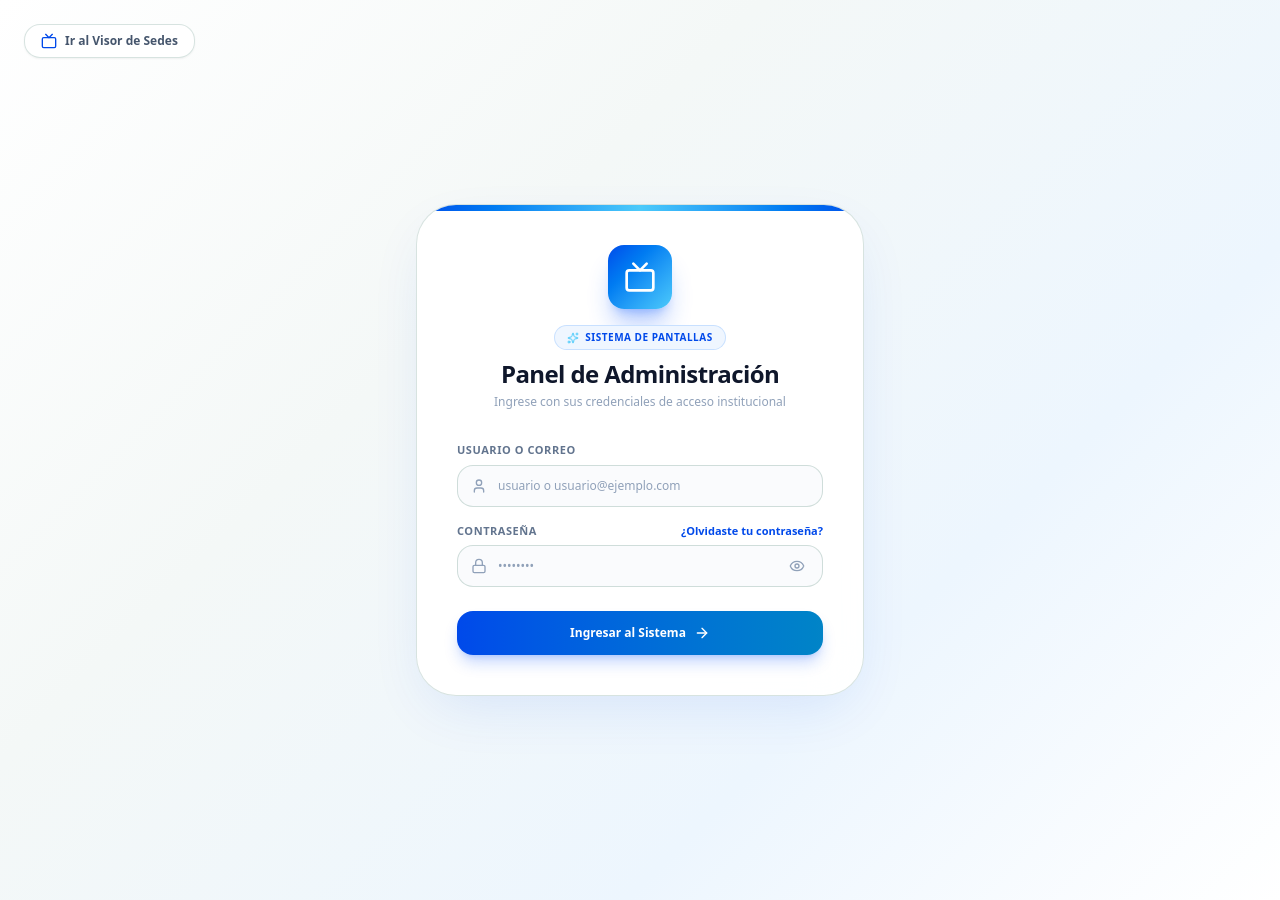
AdminLogin Component and Password Recovery › completes reset password flow and shows success notification on login
The image size is (1280, 900).
Click the button "¿Olvidaste tu contraseña?" at (752, 531), box [681, 522, 823, 539]
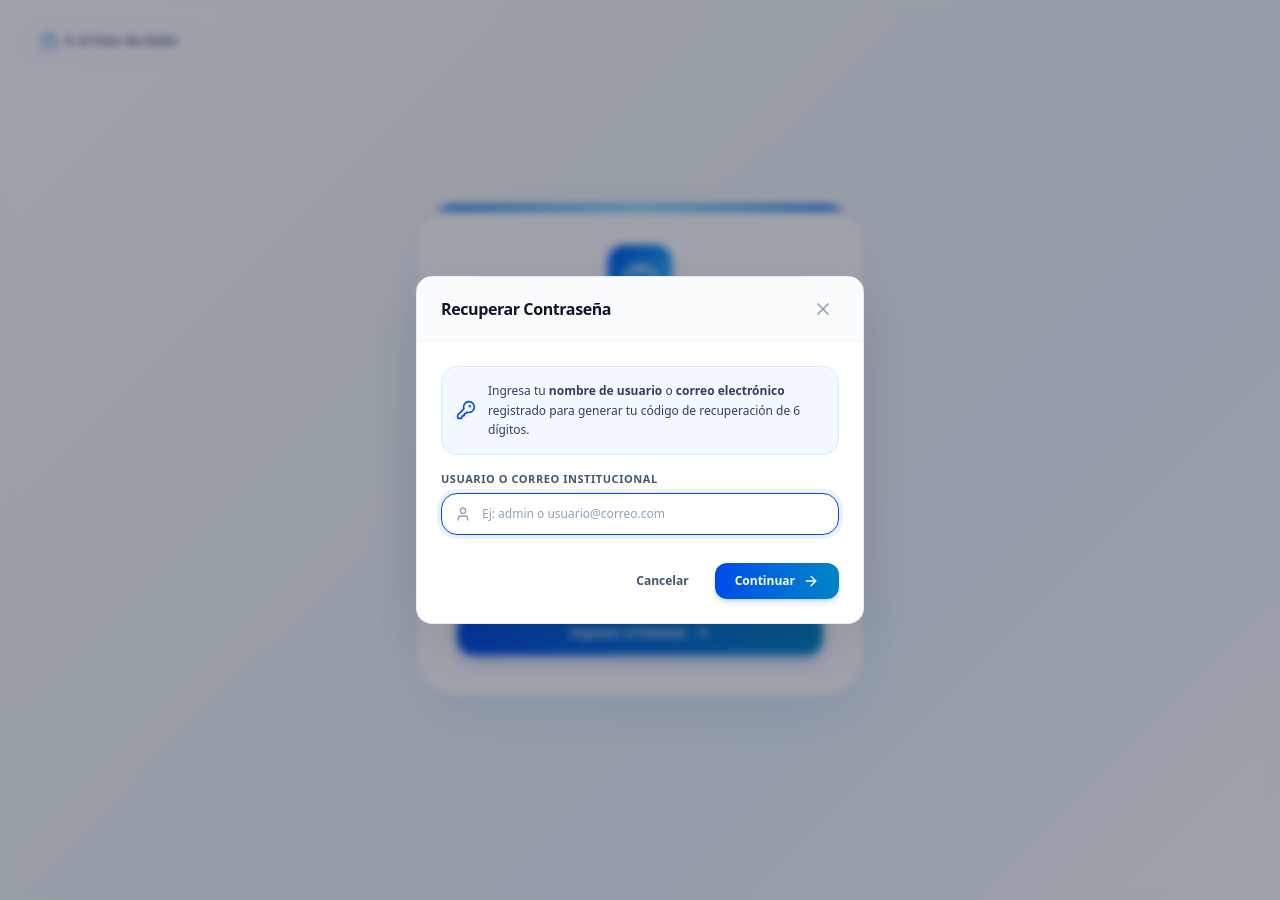
Type "admin" into the field with placeholder "Ej: admin o usuario@correo.com" at (640, 514), box [441, 493, 839, 535]
Click the button "Continuar" at (777, 581), box [715, 563, 839, 599]
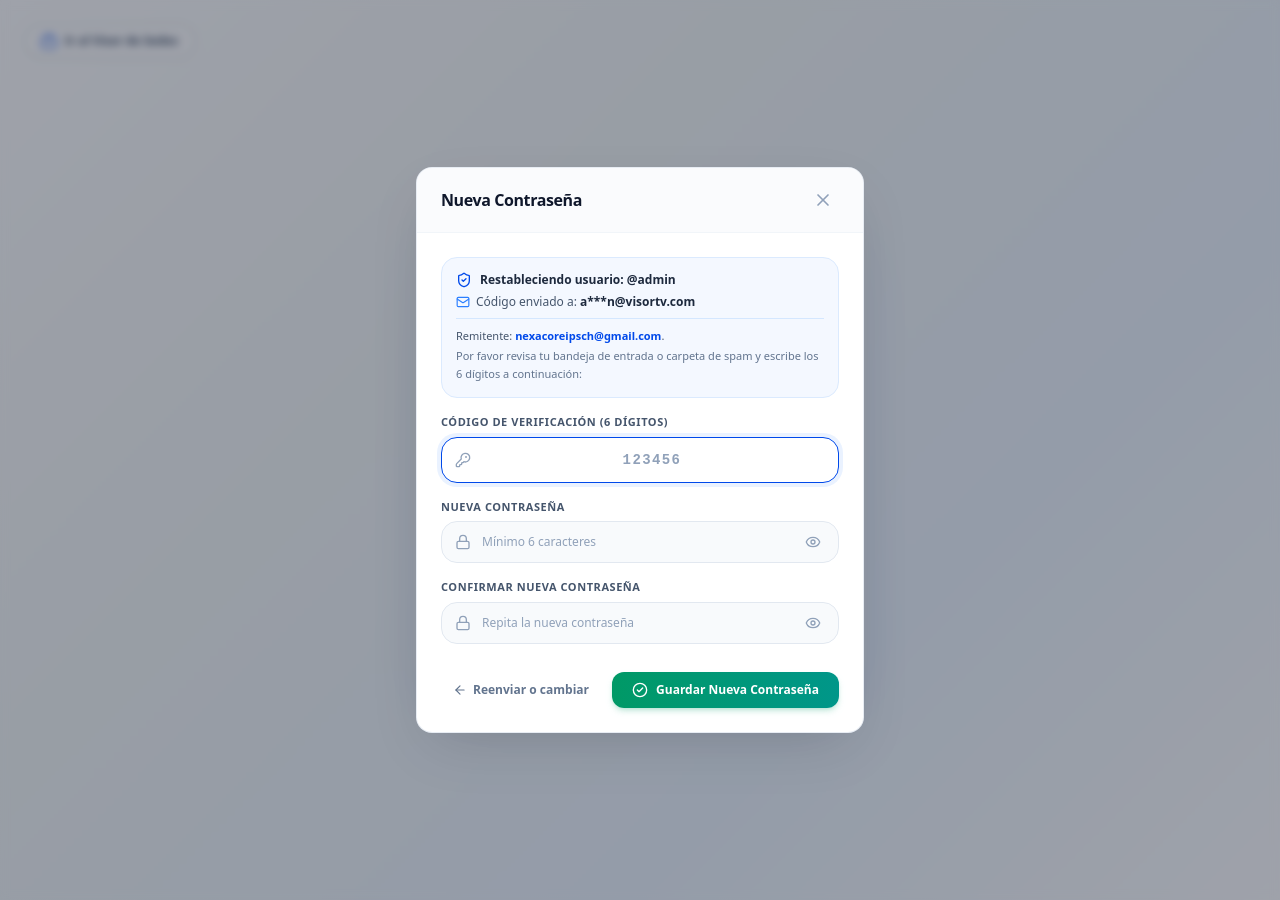
Expected: the field with placeholder "123456" is shown
Type "654321" into the field with placeholder "123456" at (640, 460), box [441, 437, 839, 483]
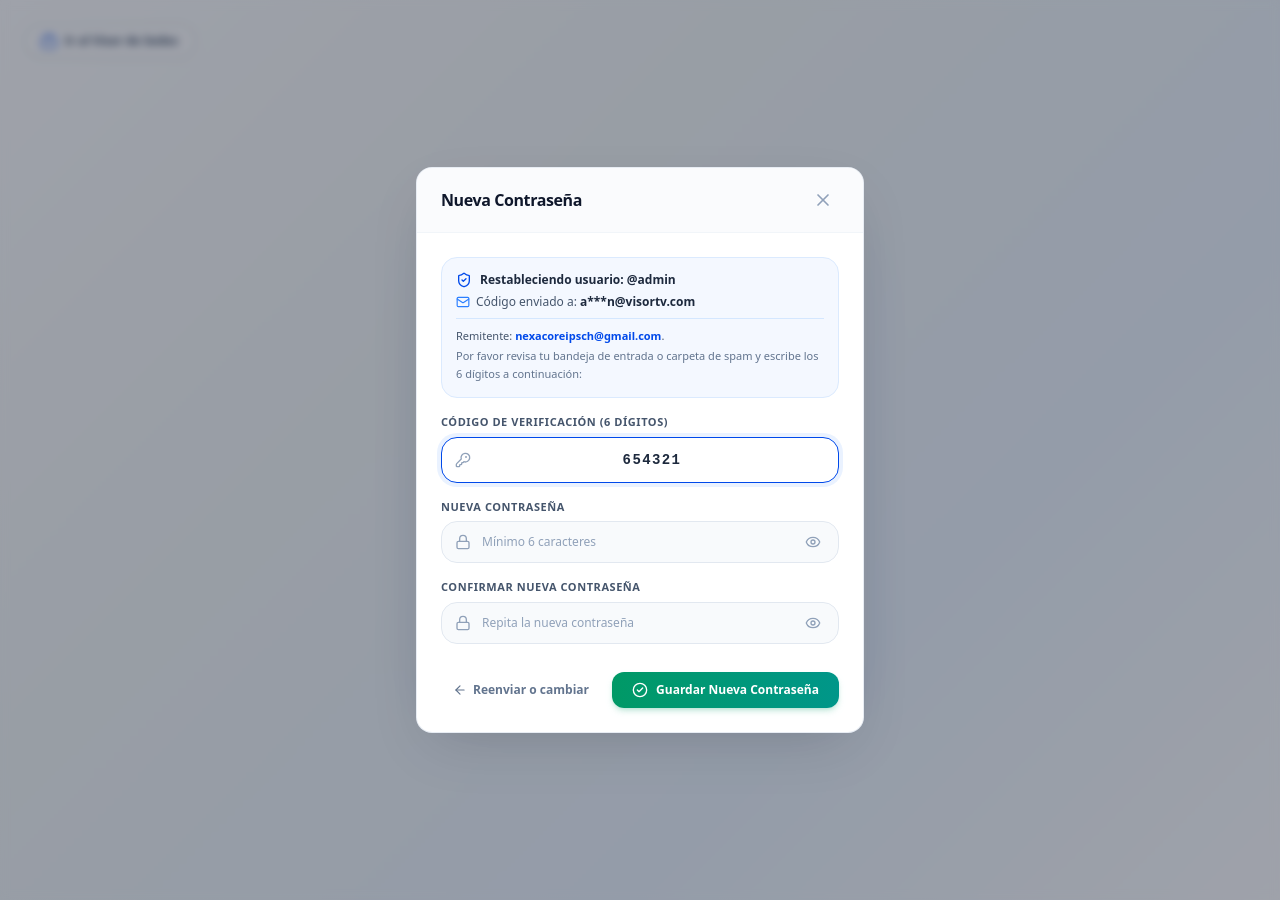
Type "newpassword123" into the password field with placeholder "Mínimo 6 caracteres" at (640, 542), box [441, 521, 839, 563]
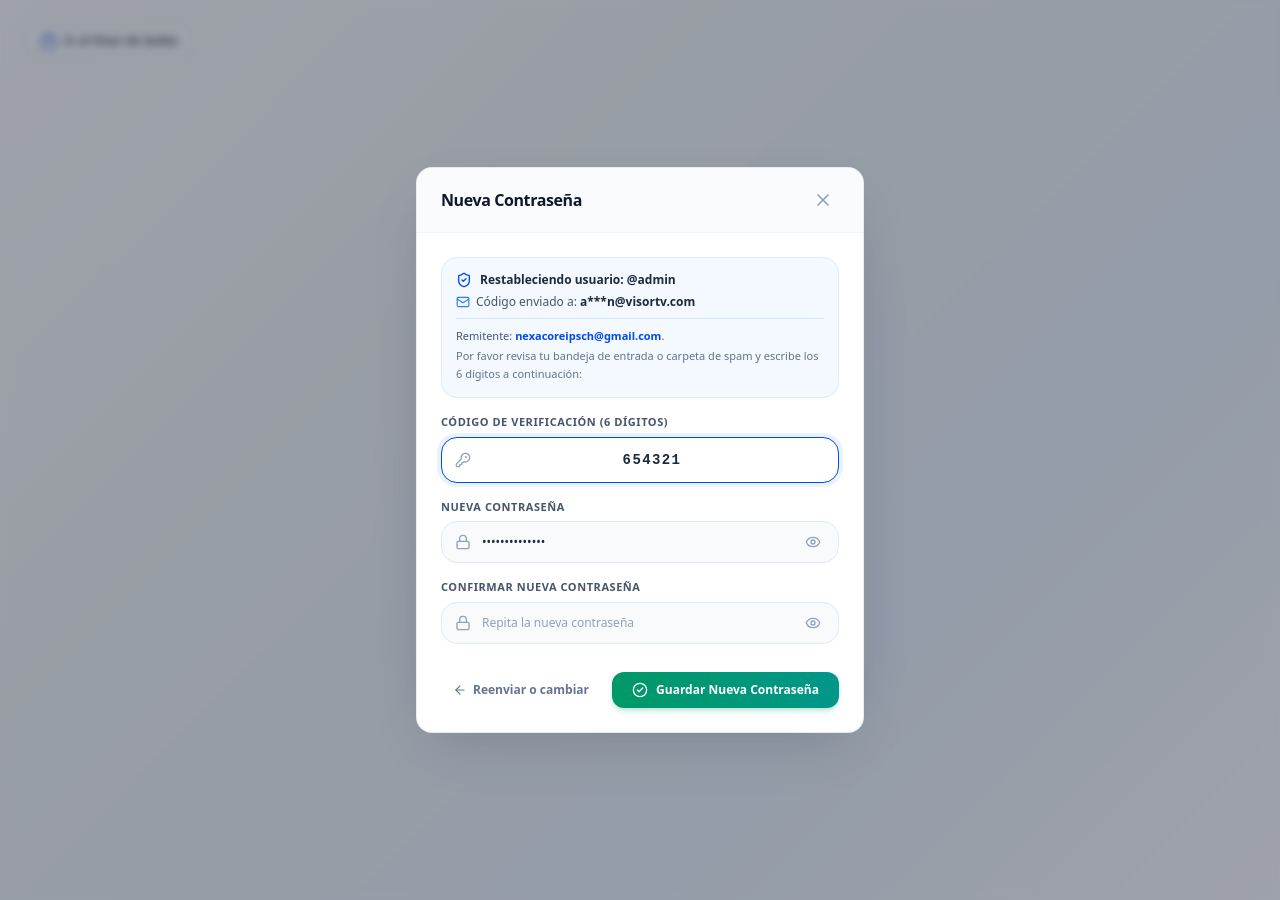
Type "newpassword123" into the password field with placeholder "Repita la nueva contraseña" at (640, 623), box [441, 602, 839, 644]
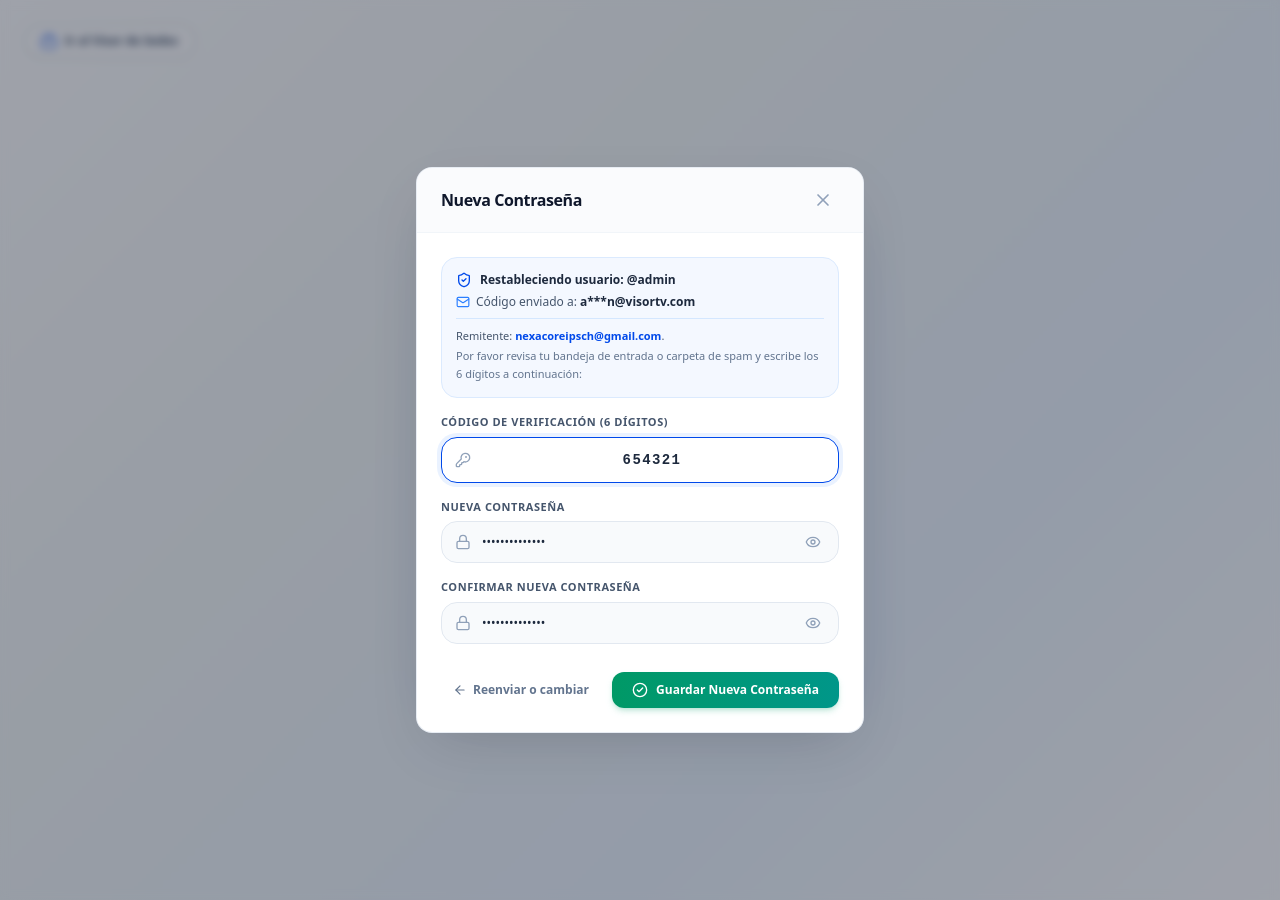
Click the button "Guardar Nueva Contraseña" at (726, 690), box [612, 672, 839, 708]
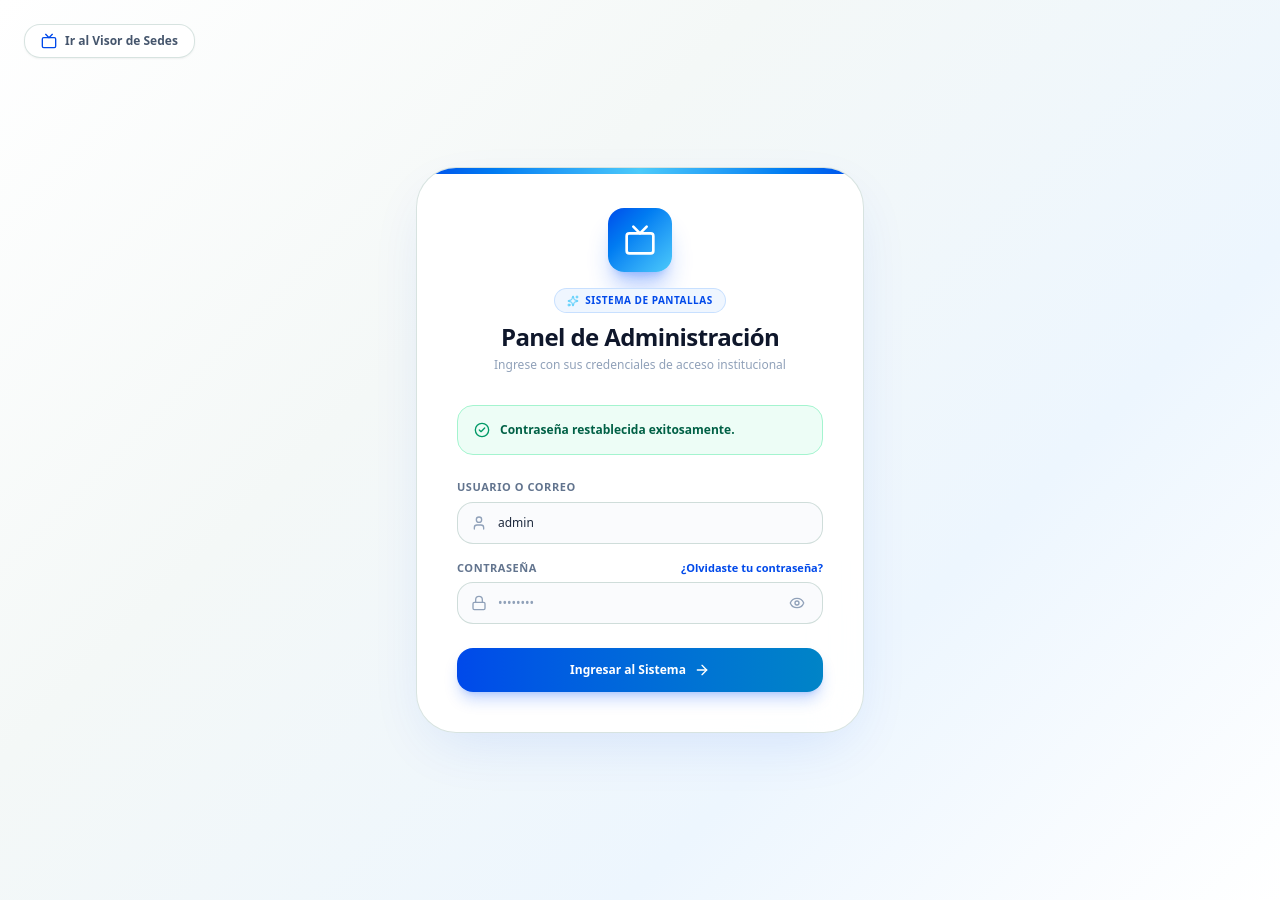
Expected: the text "Contraseña restablecida exitosamente." is shown, [500, 422, 735, 438]
